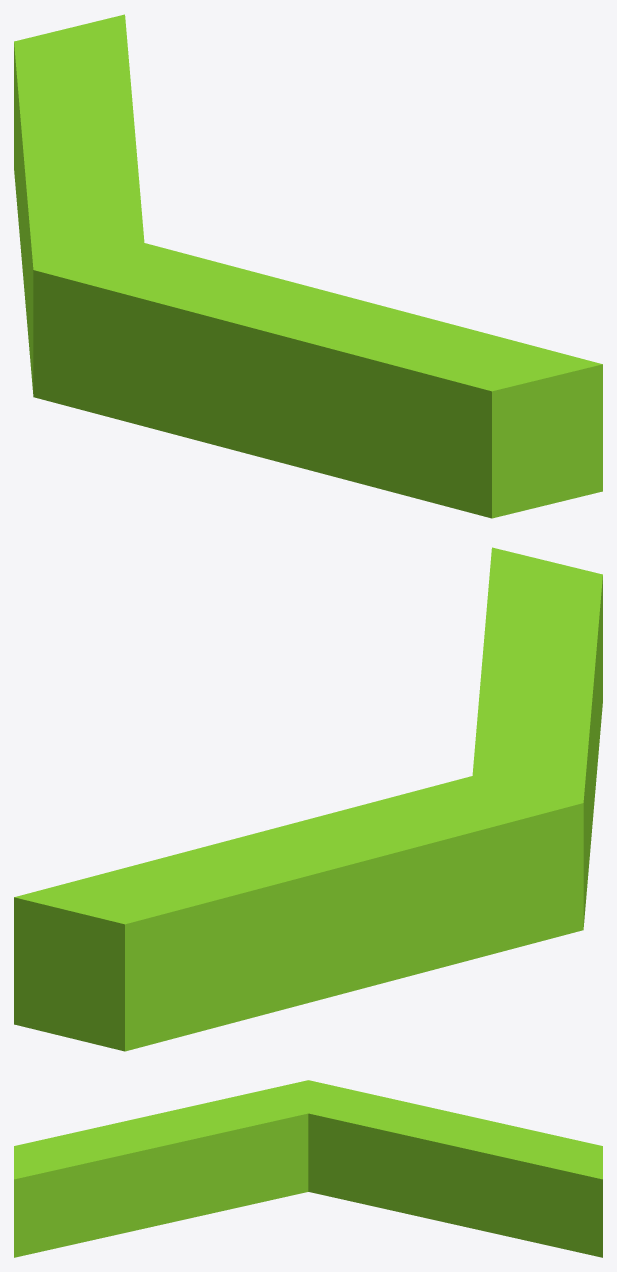
File: Arrow 1.fbx
The picture shows the model from 3 angles, top to bottom: view 1: azimuth 30°, elevation 25°; view 2: azimuth 150°, elevation 25°; view 3: azimuth 270°, elevation 25°; orthographic projection. The views are drawn at different scales.
Visible parts, largest first — view 1: Cylinder.021; view 2: Cylinder.021; view 3: Cylinder.021.
Part boxes in pixels (x1,y1,x2,y2): Cylinder.021: [14, 14, 602, 518]; Cylinder.021: [14, 547, 602, 1051]; Cylinder.021: [14, 1080, 602, 1257].
Bounding box in the file's own units: 54.1 × 19.89 × 135.
1 material, 1 textured.
